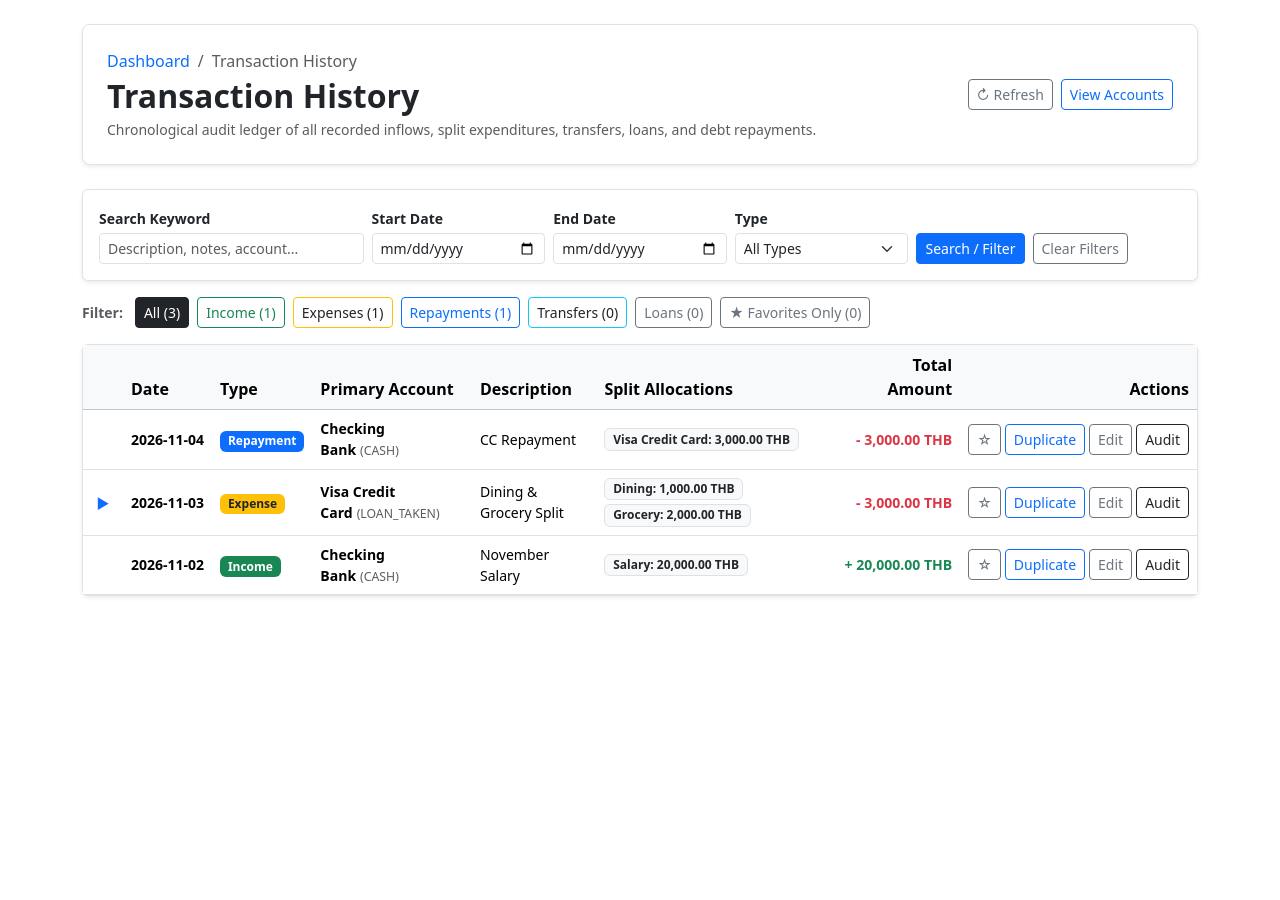
Test: Frontend Transaction History Suite (WP-06, Feature F-09, AC-09-1) › TEST-UI-CORR-01: opens correction modal, submits PUT /transactions/:id, shows 422 error and refreshes on success (F-16, AC-16-1..2)
Click the button with test id "btn-edit-tx-purchase": click(1111, 502) [1089,487,1132,518]
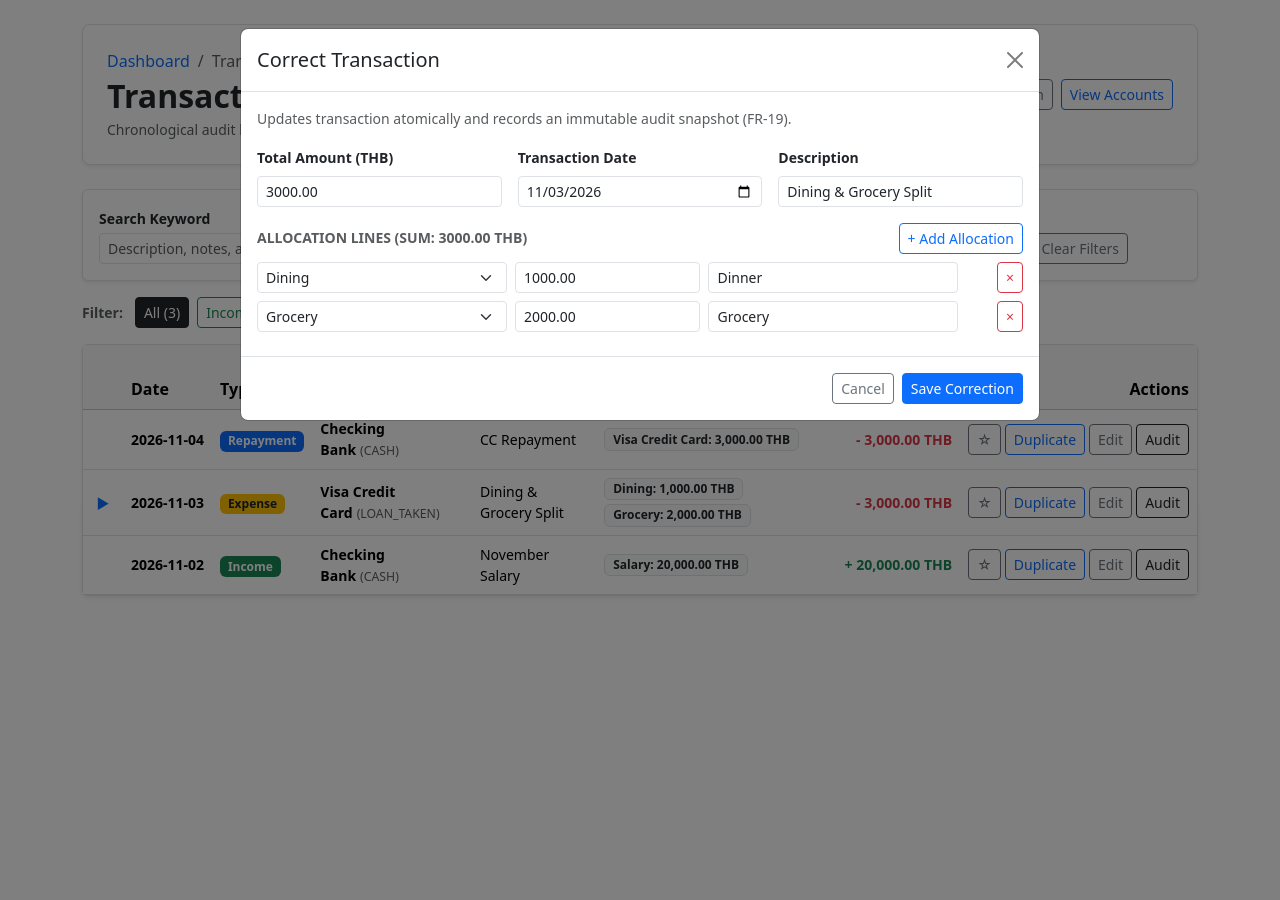
expect the element with test id "correction-modal" is shown: met
Replace the text in the field with test id "corr-total-amount" with "3500.00": (379, 192) [257,176,502,207]
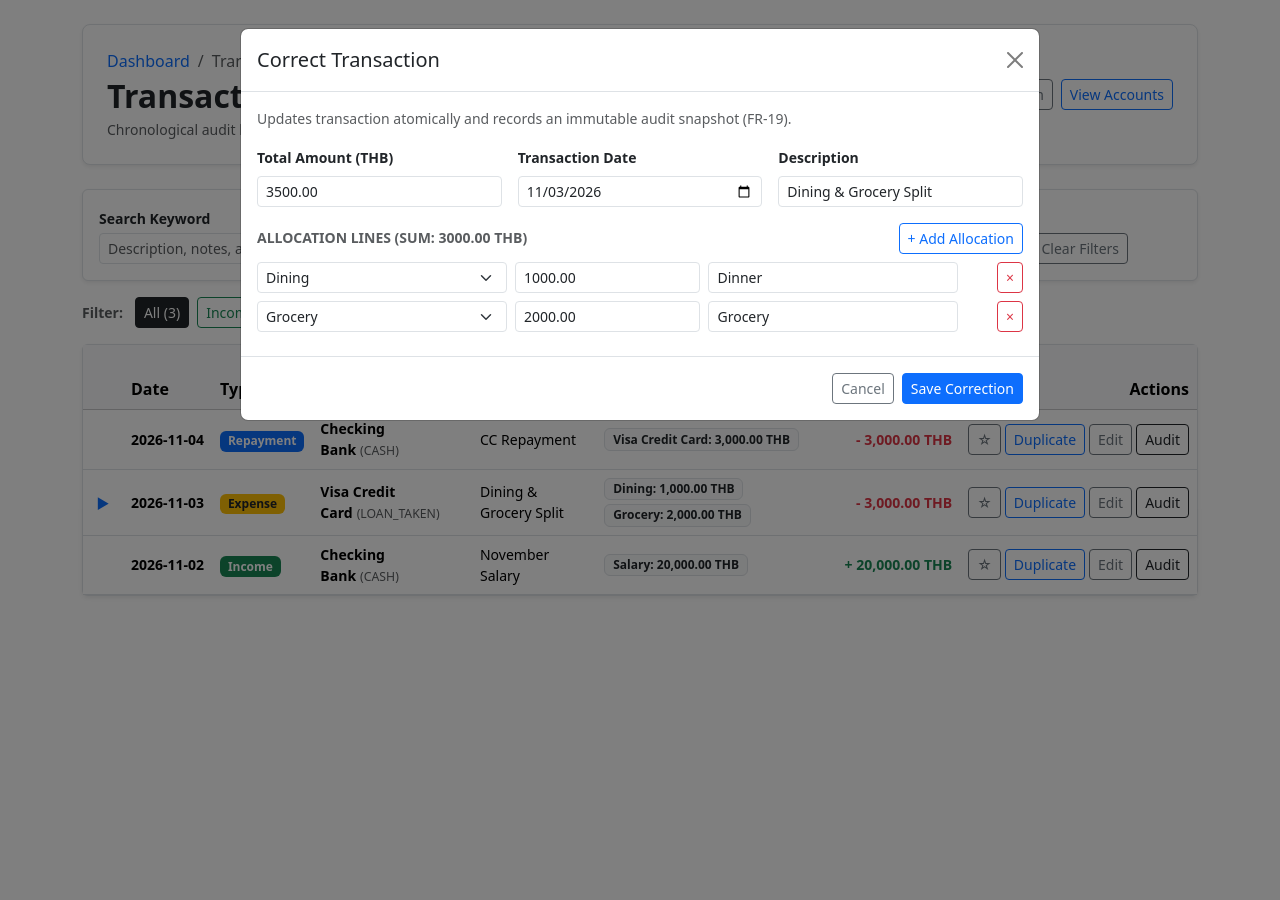
Replace the text in the field with test id "corr-alloc-amount-0" with "1500.00": (608, 278) [515,262,700,293]
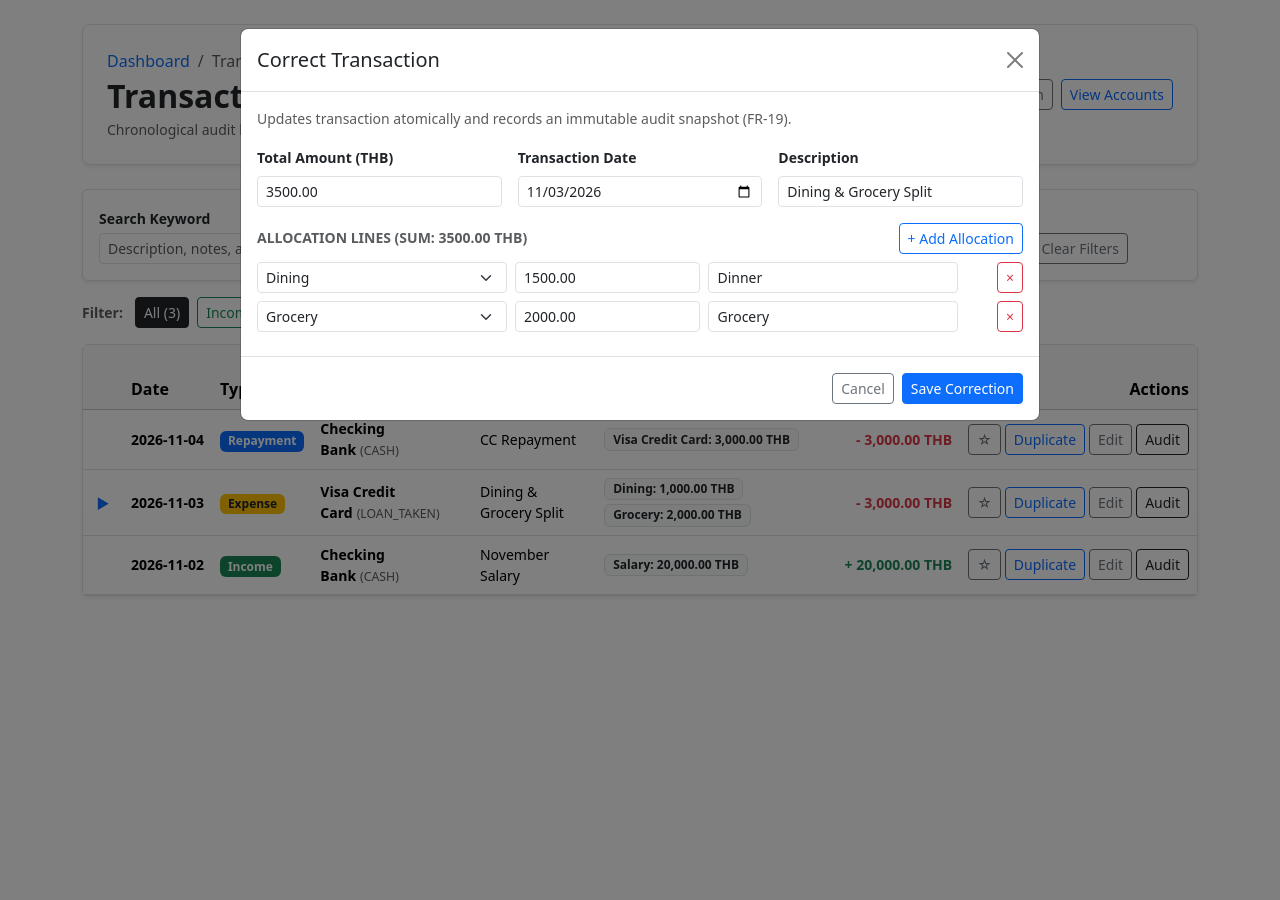
Click the button with test id "btn-save-correction": click(962, 388) [902,373,1023,404]
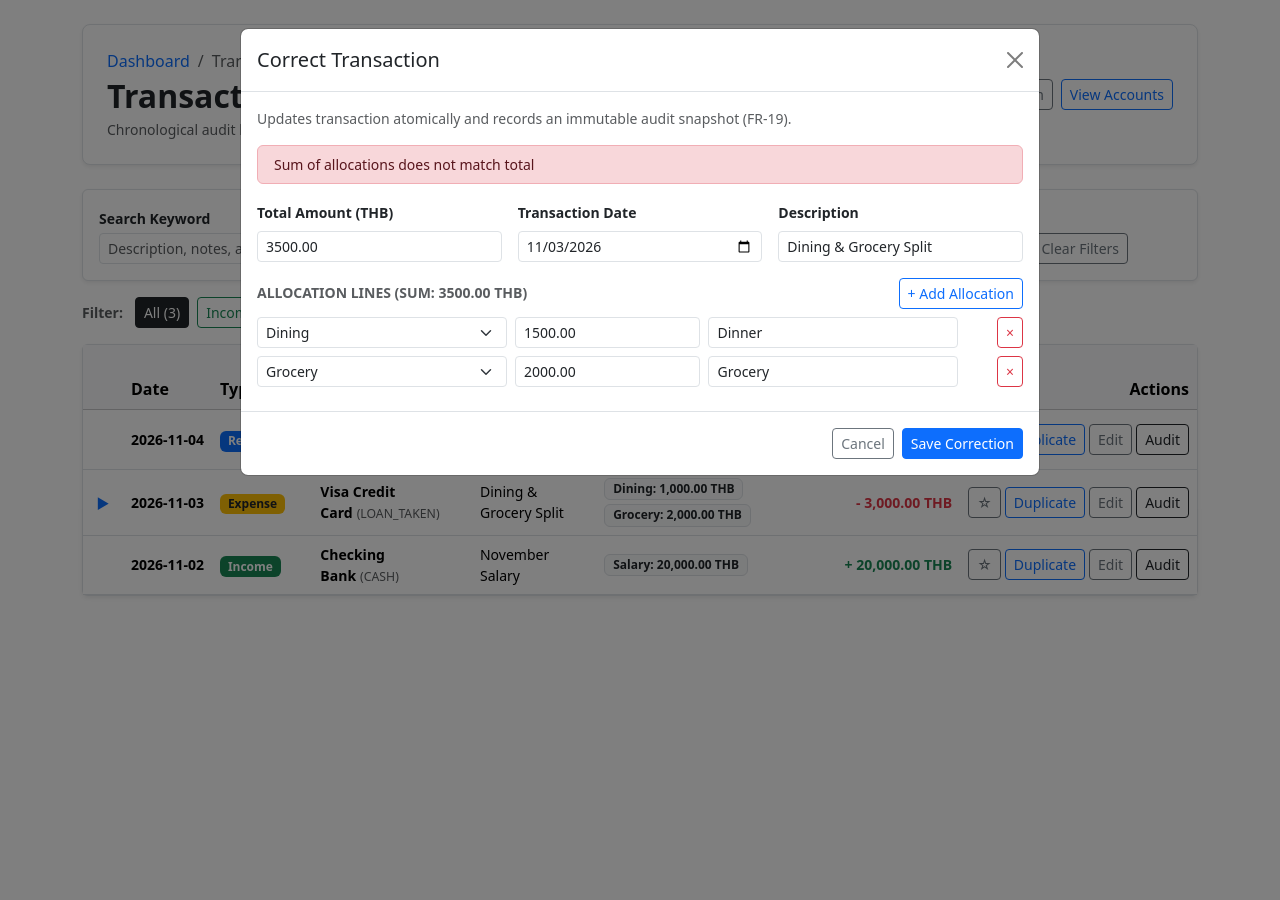
expect the message with test id "correction-error" reads "Sum of allocations does not match total": met, box [274,155,534,174]
Click the button with test id "btn-save-correction": click(962, 444) [902,428,1023,459]
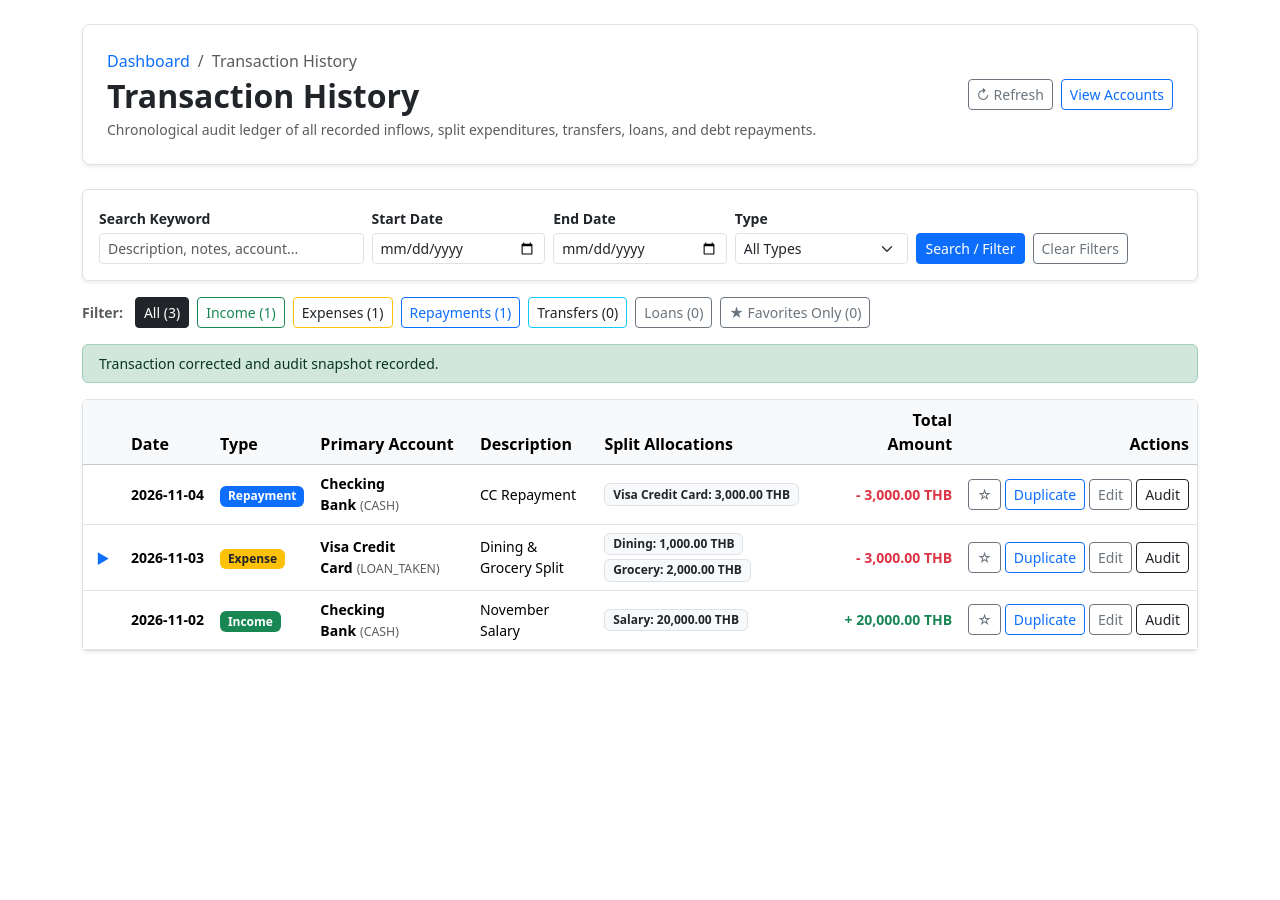
expect the element with test id "correction-modal" is gone: met
expect the message with test id "correction-feedback" shows "Transaction corrected": met, box [99,354,439,373]
